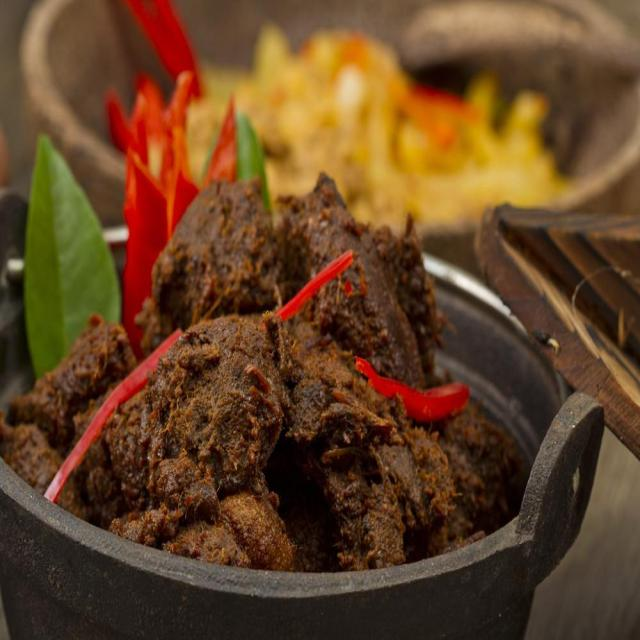Rendang: (14, 168, 490, 596)
